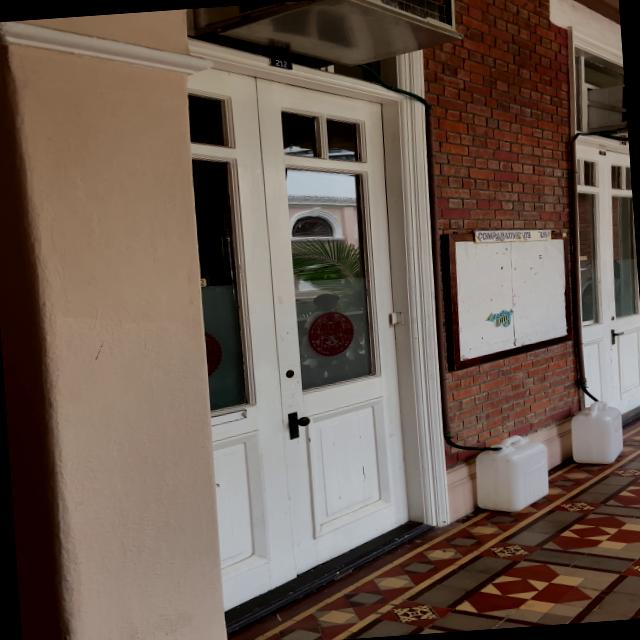room212: (266, 53, 294, 70)
